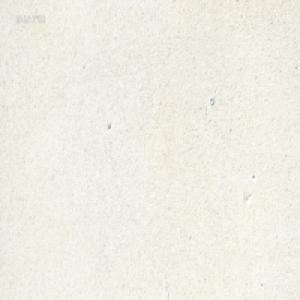Washer: (209, 95, 215, 106)
